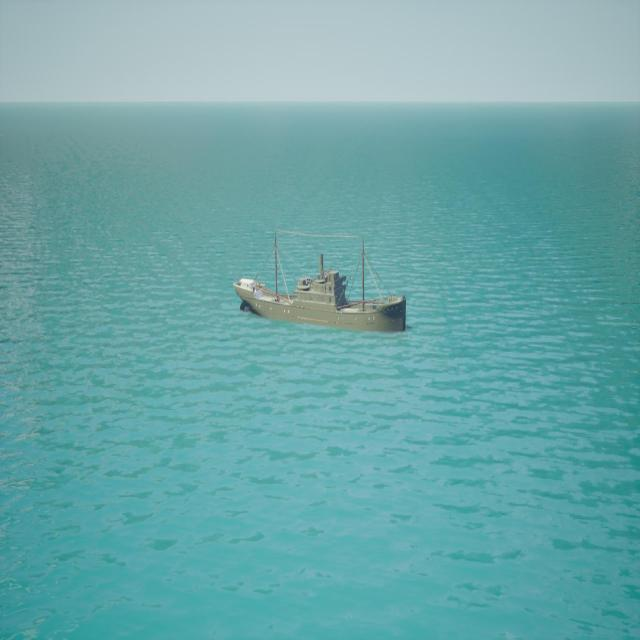fishing ship: (234, 234, 407, 336)
